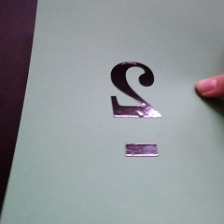green2: (102, 55, 173, 167)
